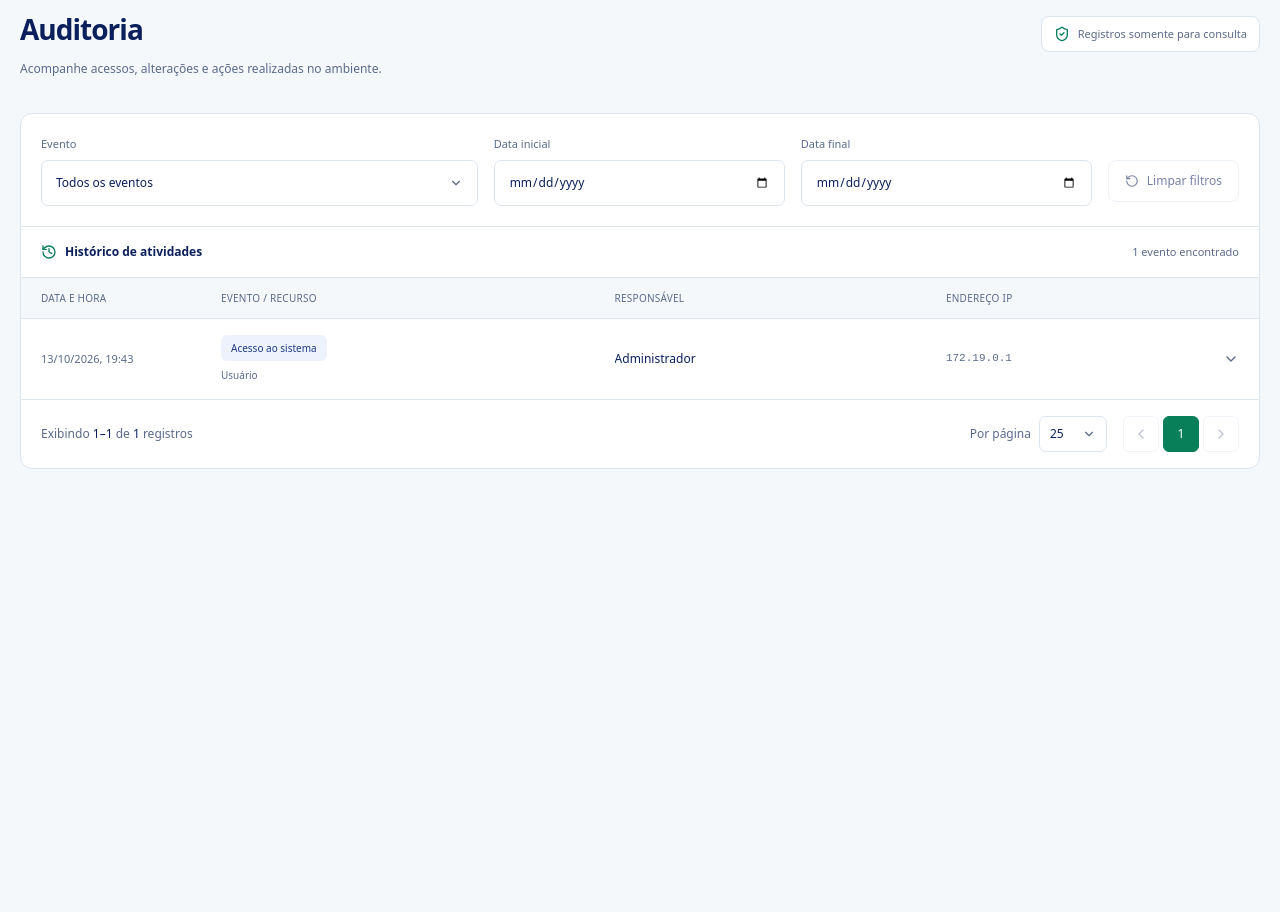
auditoria › mostra o contexto do login e deixa os dados técnicos recolhidos
Click the button that starts with "Acesso ao sistema". click: (640, 359)
box: 21,319 -> 1259,399
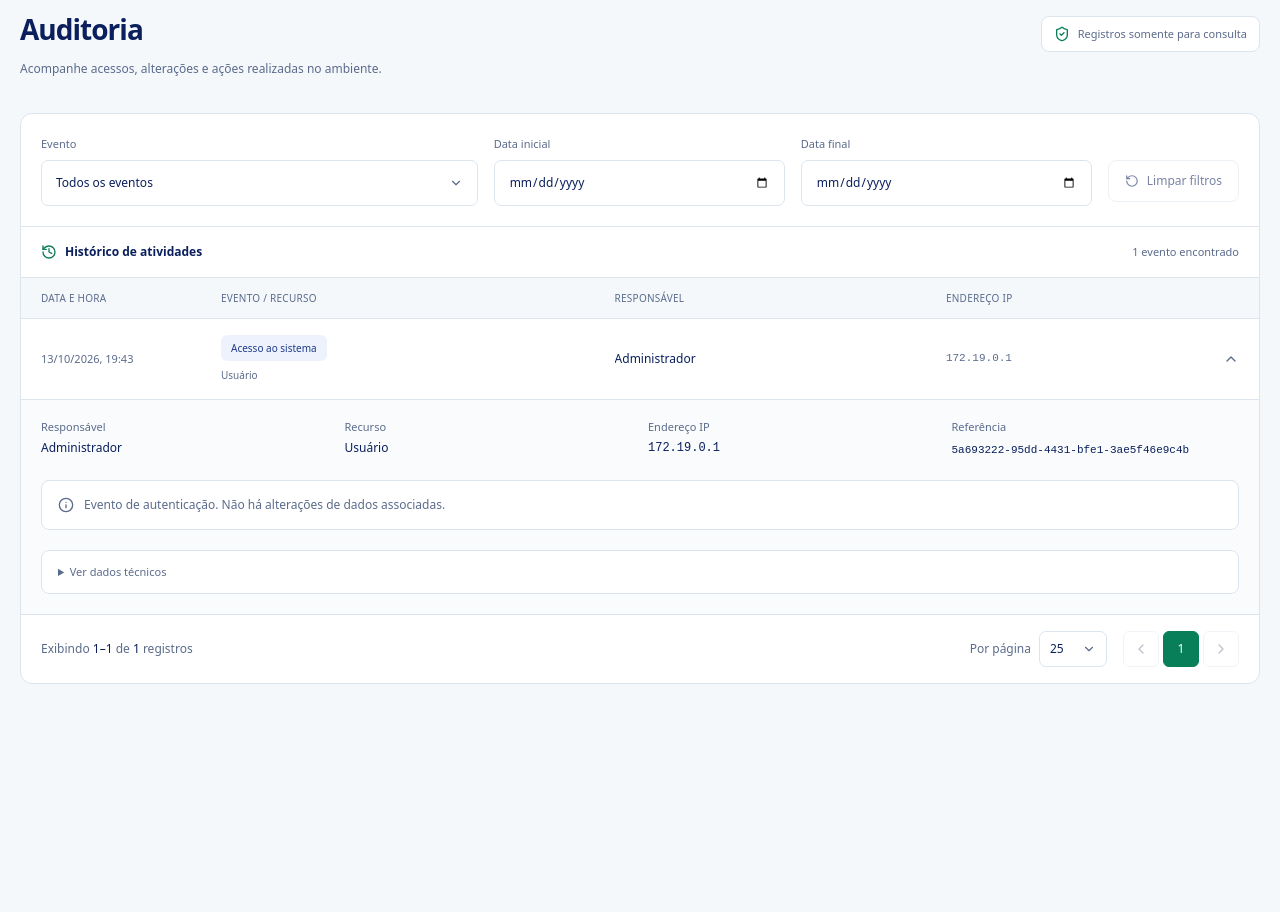
Expected: the text "172.19.0.1" is shown, 946,352 -> 1012,364
Now the text "Evento de autenticação. Não há alterações de dados associadas." is shown, box 84,493 -> 445,517
Now the text "5a693222-95dd-4431-bfe1-3ae5f46e9c4b" is shown, box 952,444 -> 1189,456
